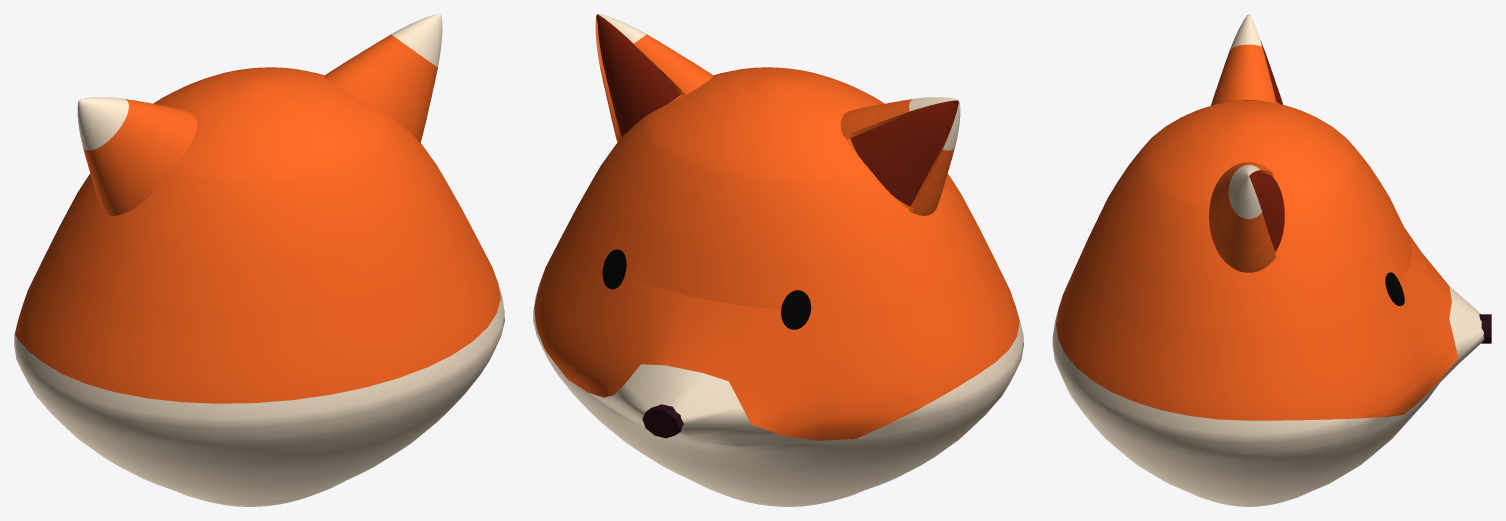
Rendered from head.obj.
The picture shows the model from 3 angles, left to right: view 1: azimuth 30°, elevation 25°; view 2: azimuth 150°, elevation 25°; view 3: azimuth 270°, elevation 25°; orthographic projection. The views are drawn at different scales.
Visible parts, largest first — view 1: pSphere13, pSphere5, pCylinder31, pCylinder38, pCylinder33, polySurface10 polySurface38; view 2: pSphere13, pSphere5, pCylinder19, polySurface41 polySurface10, pCylinder31, pCylinder38, pCylinder14, pCylinder18, pCylinder17, pCylinder33; view 3: pSphere13, pSphere5, pCylinder38, pCylinder31, polySurface41 polySurface10, polySurface10 polySurface38, pCylinder33.
Part boxes in pixels (left/top/right/bottom): pSphere13: left=15, top=67, right=500, bottom=403; pSphere5: left=14, top=285, right=504, bottom=506; pCylinder31: left=79, top=99, right=197, bottom=215; pCylinder38: left=324, top=34, right=437, bottom=142; pCylinder33: left=77, top=97, right=128, bottom=150; polySurface10 polySurface38: left=391, top=14, right=442, bottom=67; pSphere13: left=534, top=67, right=1019, bottom=440; pSphere5: left=533, top=290, right=1023, bottom=506; pCylinder19: left=850, top=100, right=958, bottom=206; polySurface41 polySurface10: left=596, top=14, right=680, bottom=136; pCylinder31: left=840, top=99, right=958, bottom=215; pCylinder38: left=595, top=15, right=713, bottom=142; pCylinder14: left=642, top=404, right=683, bottom=438; pCylinder18: left=781, top=290, right=811, bottom=329; pCylinder17: left=602, top=249, right=626, bottom=289; pCylinder33: left=909, top=97, right=960, bottom=150; pSphere13: left=1056, top=100, right=1458, bottom=420; pSphere5: left=1052, top=286, right=1484, bottom=506; pCylinder38: left=1209, top=162, right=1279, bottom=272; pCylinder31: left=1211, top=44, right=1279, bottom=105; polySurface41 polySurface10: left=1249, top=171, right=1284, bottom=251; polySurface10 polySurface38: left=1229, top=165, right=1261, bottom=218; pCylinder33: left=1229, top=14, right=1261, bottom=50.
Bounding box in the file's own units: 5.11 × 4.89 × 4.85.
